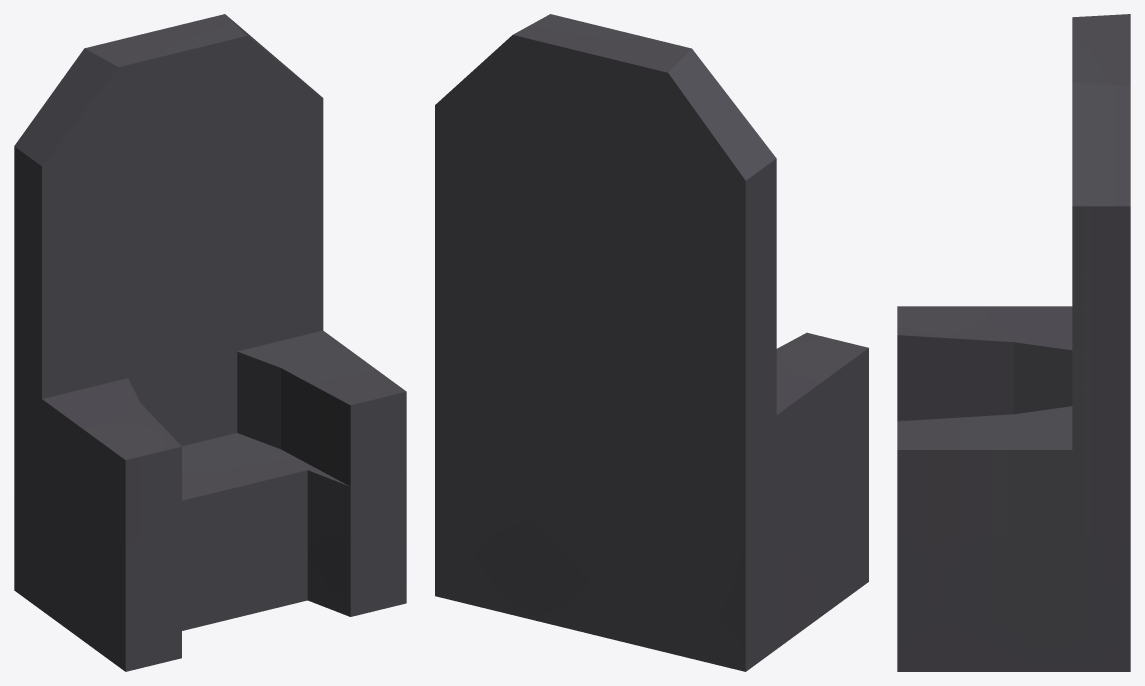
Rendered from chair_god.gltf.
3 views of the same model, side by side, from view 1: azimuth 30°, elevation 25°; view 2: azimuth 150°, elevation 25°; view 3: azimuth 270°, elevation 25° (orthographic). The views are drawn at different scales.
Visible parts, largest first — view 1: starting room.003; view 2: starting room.003; view 3: starting room.003.
Boxes of the visible parts, box(x1,y1,x2,y2) form: starting room.003: box(14, 14, 406, 671); starting room.003: box(435, 14, 868, 671); starting room.003: box(897, 14, 1130, 671).
Bounding box in the file's own units: 12.18 × 21.73 × 8.36.
Materials: 1 (1 with a texture image).
